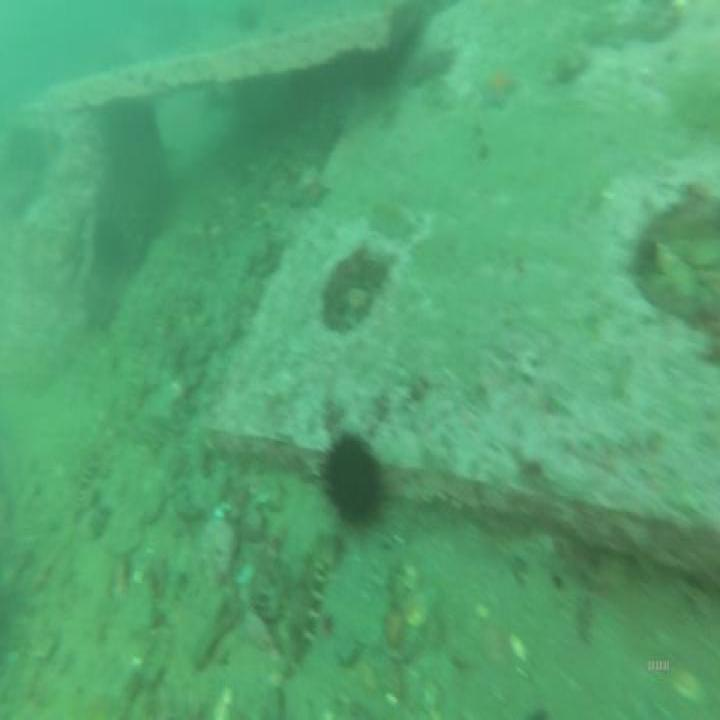echinus: (322, 426, 383, 530)
holothurian: (290, 544, 325, 668)
starfish: (479, 62, 519, 118)
